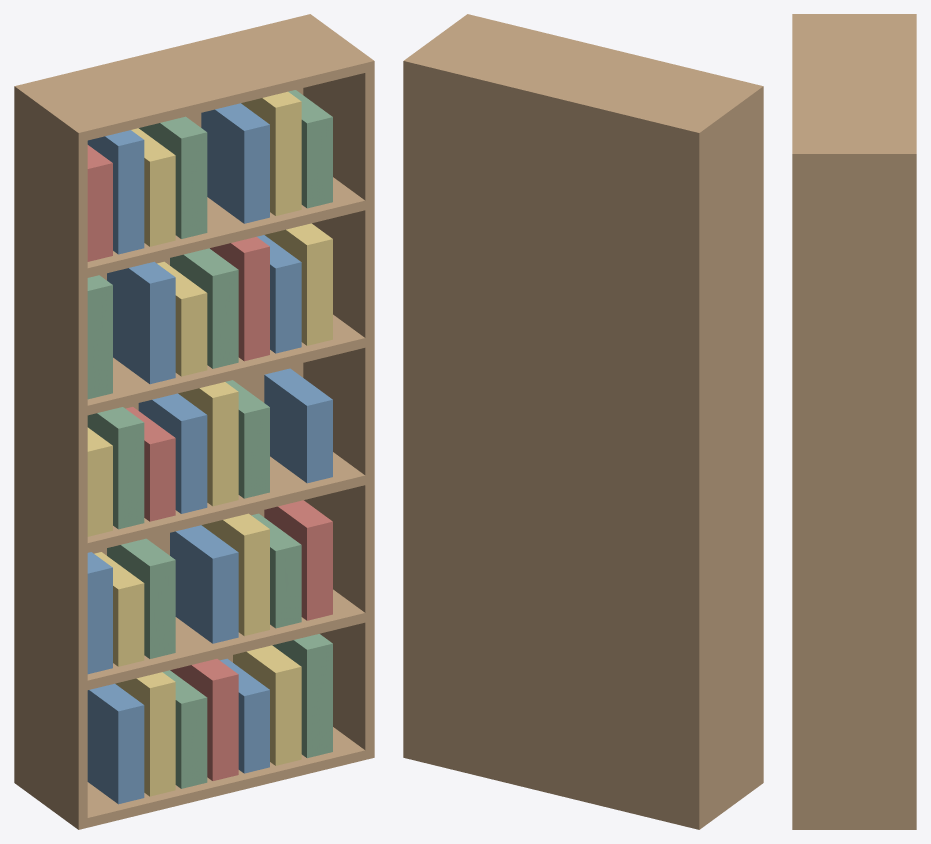
The model's file is bookshelf.glb.
3 views of the same model, side by side, from view 1: azimuth 30°, elevation 25°; view 2: azimuth 150°, elevation 25°; view 3: azimuth 270°, elevation 25° (orthographic). The views are drawn at different scales.
Parts seen in each view (by area): view 1: Book (×35), Side (×2), Shelf (×6), Back; view 2: Back, Side (×2), Shelf; view 3: Side (×2), Shelf, Back.
Part boxes in pixels (<box>): Book (×35): <box>87,90,332,804</box>; Side (×2): <box>14,14,374,829</box>; Shelf (×6): <box>26,18,365,827</box>; Back: <box>14,14,310,783</box>; Back: <box>403,60,701,829</box>; Side (×2): <box>403,14,763,829</box>; Shelf: <box>415,16,753,129</box>; Side (×2): <box>792,14,916,829</box>; Shelf: <box>792,18,912,149</box>; Back: <box>912,14,916,829</box>.
Bounding box in the file's own units: 0.8 × 1.8 × 0.3.
